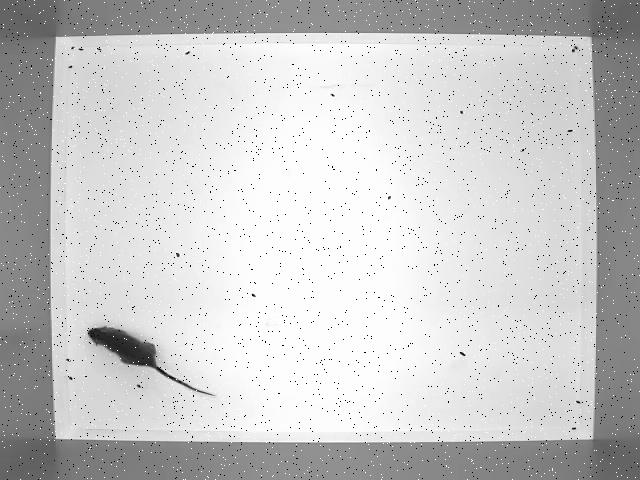Tikus: (88, 320, 226, 401)
